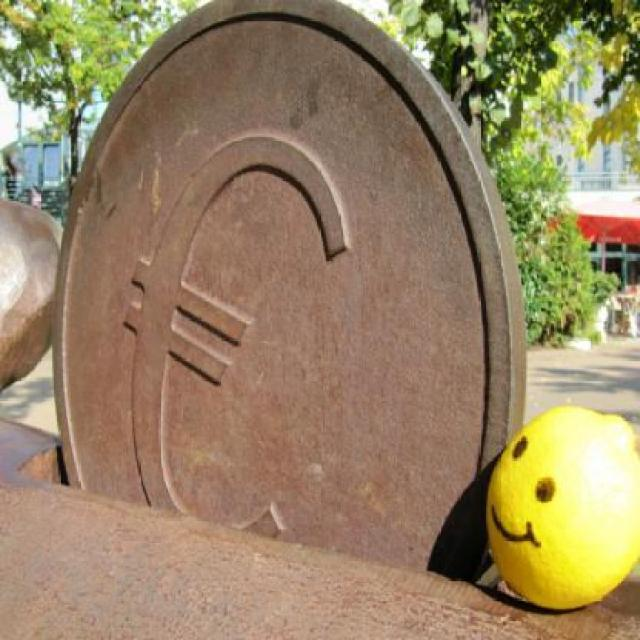Lemon: (479, 397, 639, 614)
